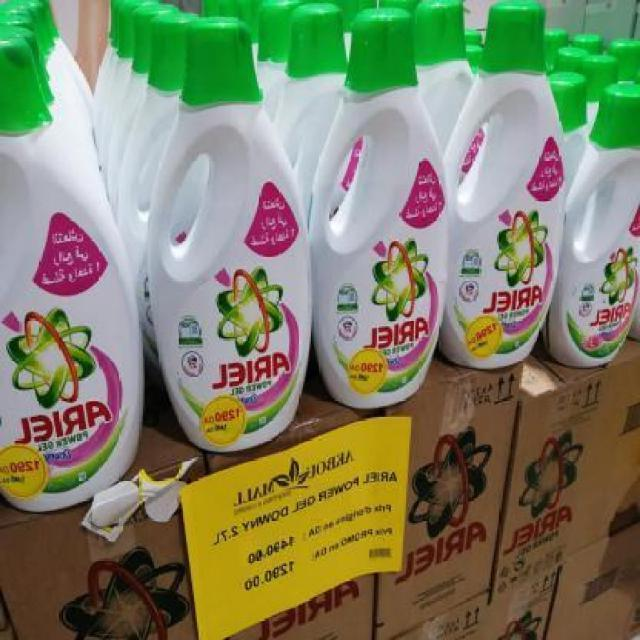Detergent: (154, 14, 321, 448), (0, 53, 142, 516), (314, 4, 463, 410), (440, 0, 575, 371), (548, 80, 640, 364)
